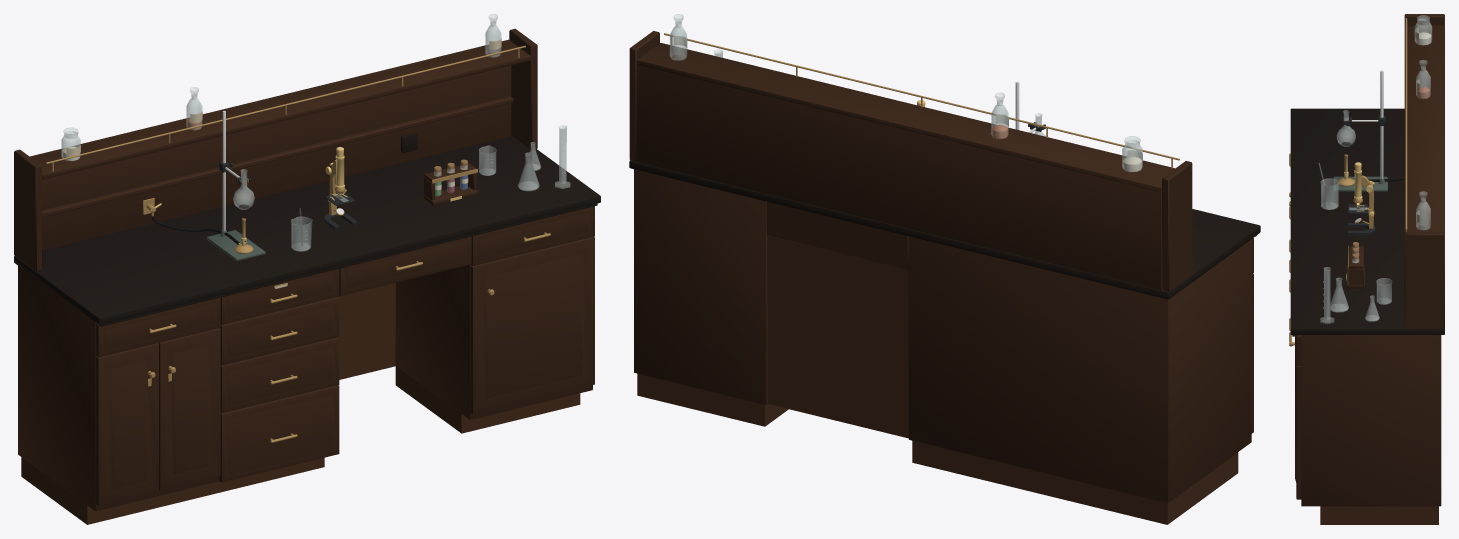
Rendered from lab_bench.glb.
3 renders of one model, left to right at view 1: azimuth 30°, elevation 25°; view 2: azimuth 150°, elevation 25°; view 3: azimuth 270°, elevation 25°, orthographic. The views are drawn at different scales.
Parts seen in each view (by area): view 1: lab_bench, glassware, bench_props, vial_rack, microscope; view 2: lab_bench, glassware, bench_props; view 3: lab_bench, glassware, bench_props, microscope, vial_rack.
Part boxes in pixels (box(x1,y1,x2,y2)): lab_bench: box(14, 28, 600, 524); glassware: box(61, 14, 569, 251); bench_props: box(62, 38, 565, 260); vial_rack: box(423, 163, 478, 205); microscope: box(323, 147, 357, 229); lab_bench: box(629, 31, 1260, 524); glassware: box(670, 14, 1142, 172); bench_props: box(674, 36, 1142, 171); lab_bench: box(1289, 14, 1444, 524); glassware: box(1318, 15, 1431, 323); bench_props: box(1323, 27, 1431, 308); microscope: box(1347, 162, 1375, 235); vial_rack: box(1346, 245, 1364, 288).
Bounding box in the file's own units: 2.2 × 1.49 × 0.656.
